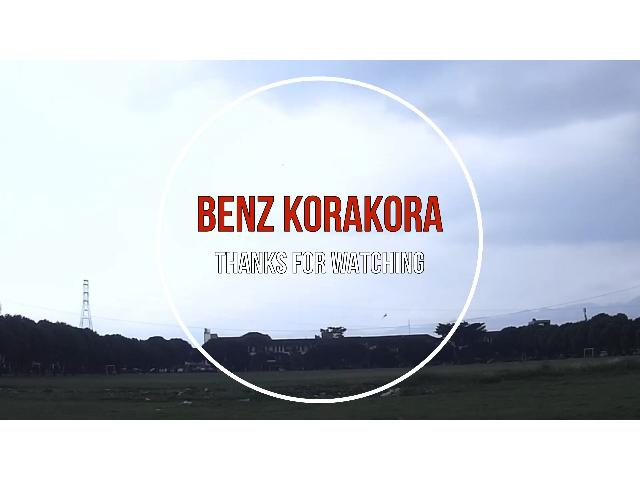Anti-Drone: (379, 311, 391, 323)
